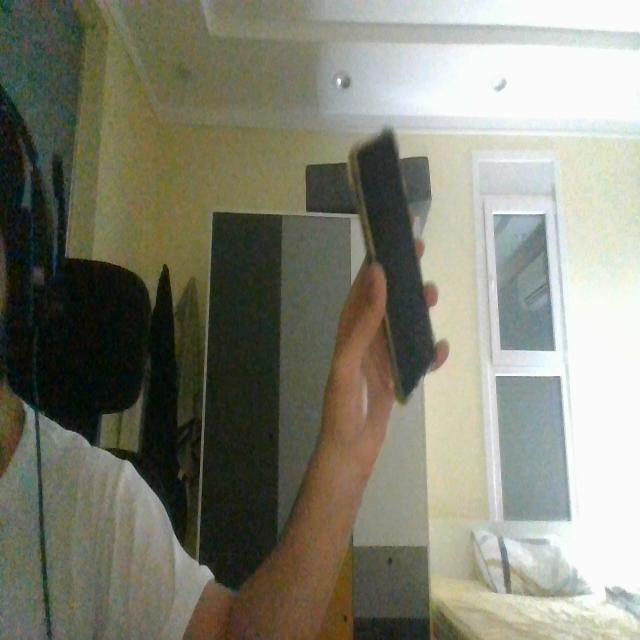Phone: (343, 123, 443, 406)
